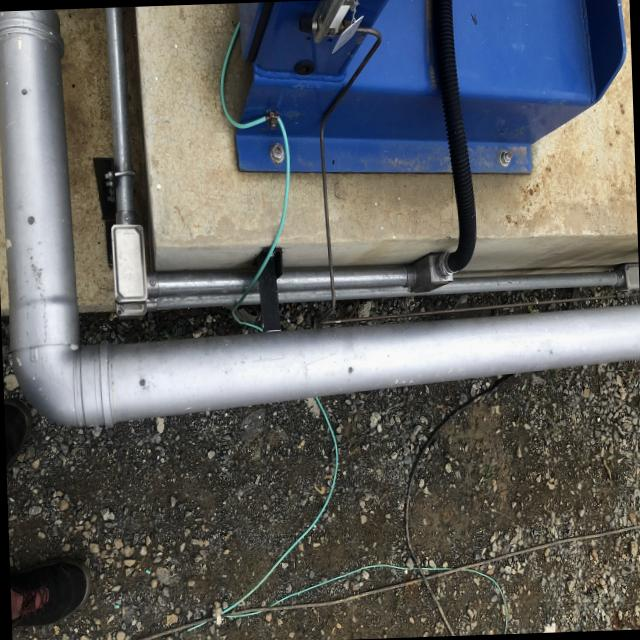gas: (12, 302, 640, 429), (0, 9, 77, 427)
